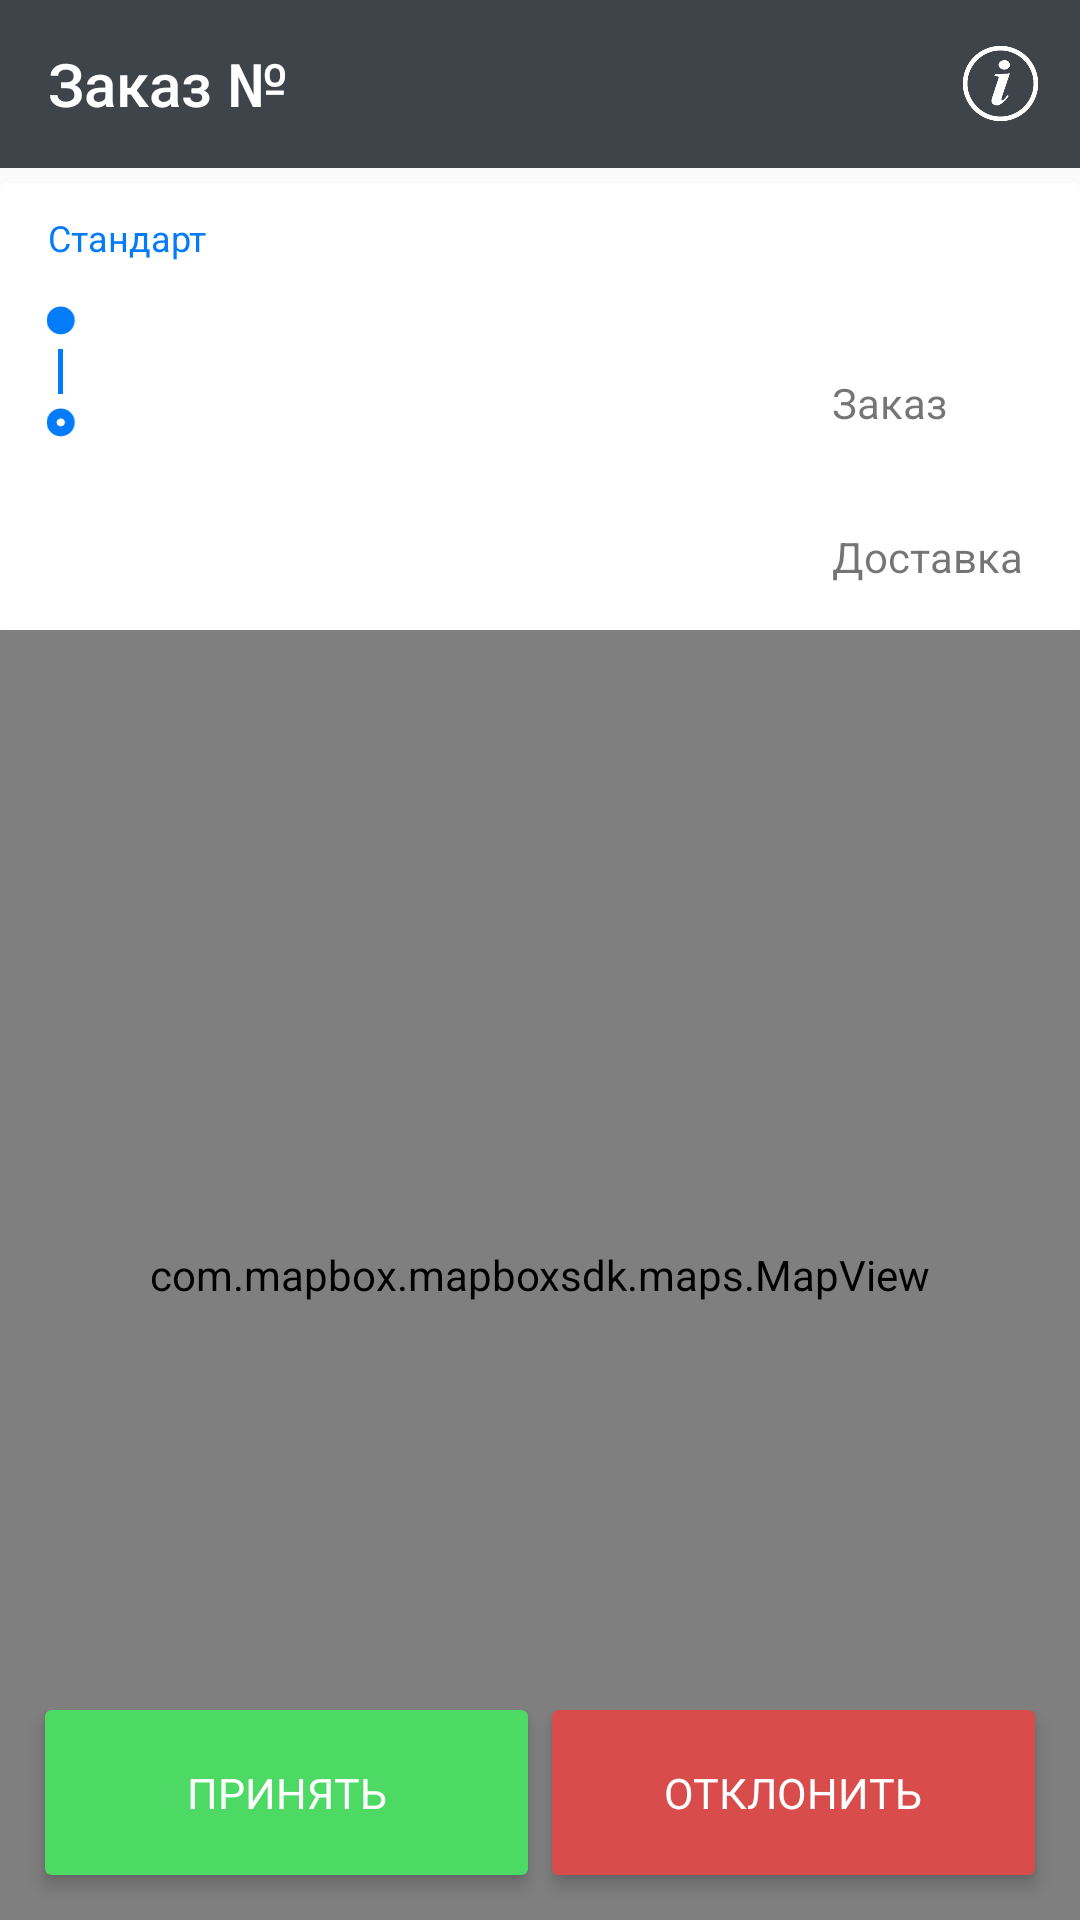

Screen size 1080 x 1920. Icon name, then its center in pixels as point (x, y):
end route point: point (61, 422)
info: point (1000, 83)
start route point: point (61, 320)
